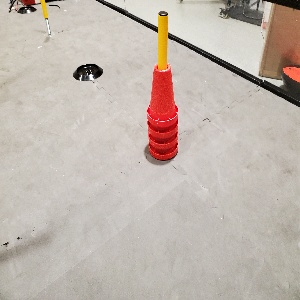Red_4: (142, 61, 181, 162)
